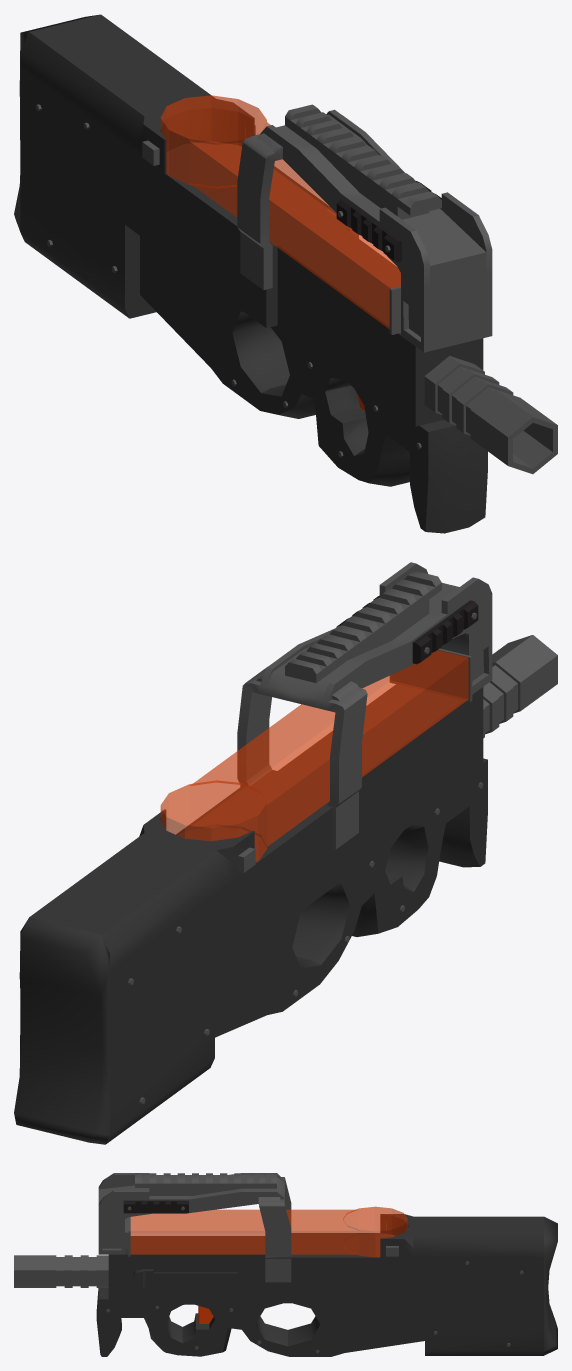
3 renders of one model, top to bottom at view 1: azimuth 30°, elevation 25°; view 2: azimuth 150°, elevation 25°; view 3: azimuth 270°, elevation 25°, orthographic. The views are drawn at different scales.
Parts seen in each view (by area): view 1: Cube.005; view 2: Cube.005; view 3: Cube.005.
Boxes of the visible parts, bbox=[...] form: Cube.005: bbox=[14, 14, 557, 533]; Cube.005: bbox=[14, 562, 557, 1144]; Cube.005: bbox=[14, 1173, 557, 1356].
Size of the model in its own units: 2.04 by 6 by 16.67.
